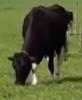cow: (7, 4, 73, 86)
